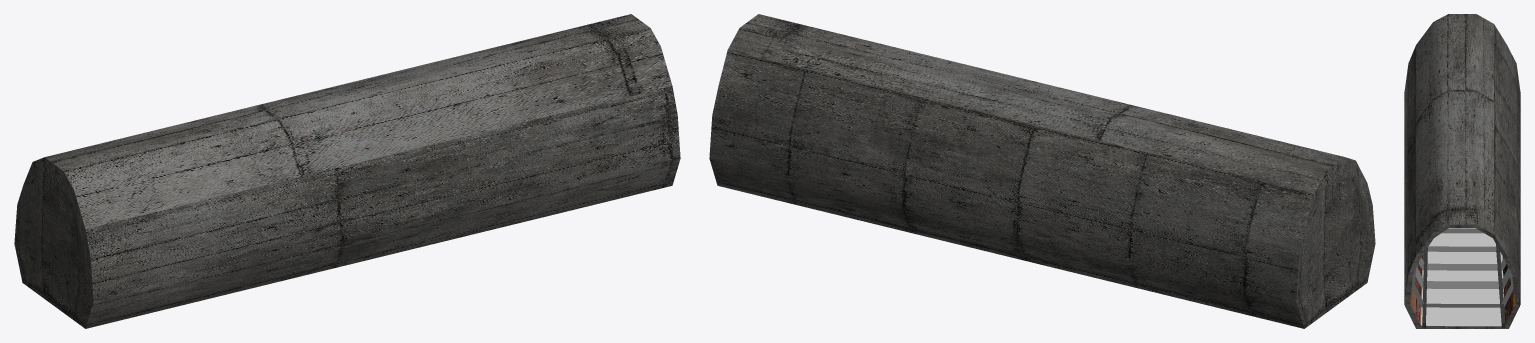
Rendered from tunnel.obj.
3 views of the same model, side by side, from view 1: azimuth 30°, elevation 25°; view 2: azimuth 150°, elevation 25°; view 3: azimuth 270°, elevation 25° (orthographic). The views are drawn at different scales.
Visible parts, largest first — view 1: pCube4; view 2: pCube4; view 3: pCube4, pCube6, pCube5.
Part boxes in pixels (box(x1,y1,x2,y2)): pCube4: box(14, 14, 680, 328); pCube4: box(709, 14, 1375, 328); pCube4: box(1404, 14, 1520, 328); pCube6: box(1496, 244, 1505, 327); pCube5: box(1422, 248, 1427, 327).
Size of the model in its own units: 126 by 28.97 by 29.33.
